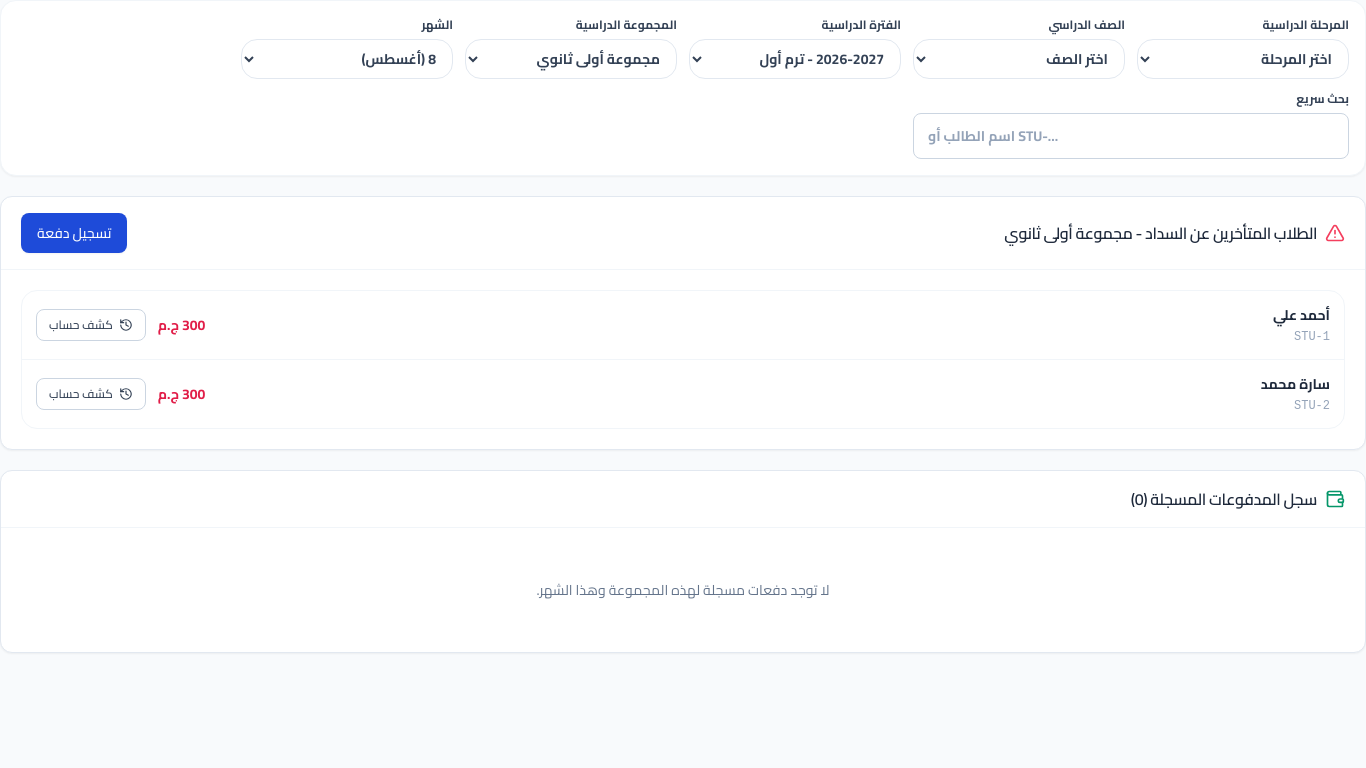
ManualPaymentTab unified filters › filters overdue students by name in real time
The width and height of the screenshot is (1366, 768).
Type "سارة" into the field labelled "بحث سريع".
click(1131, 136); type("سارة")  # box 913,113 -> 1349,159
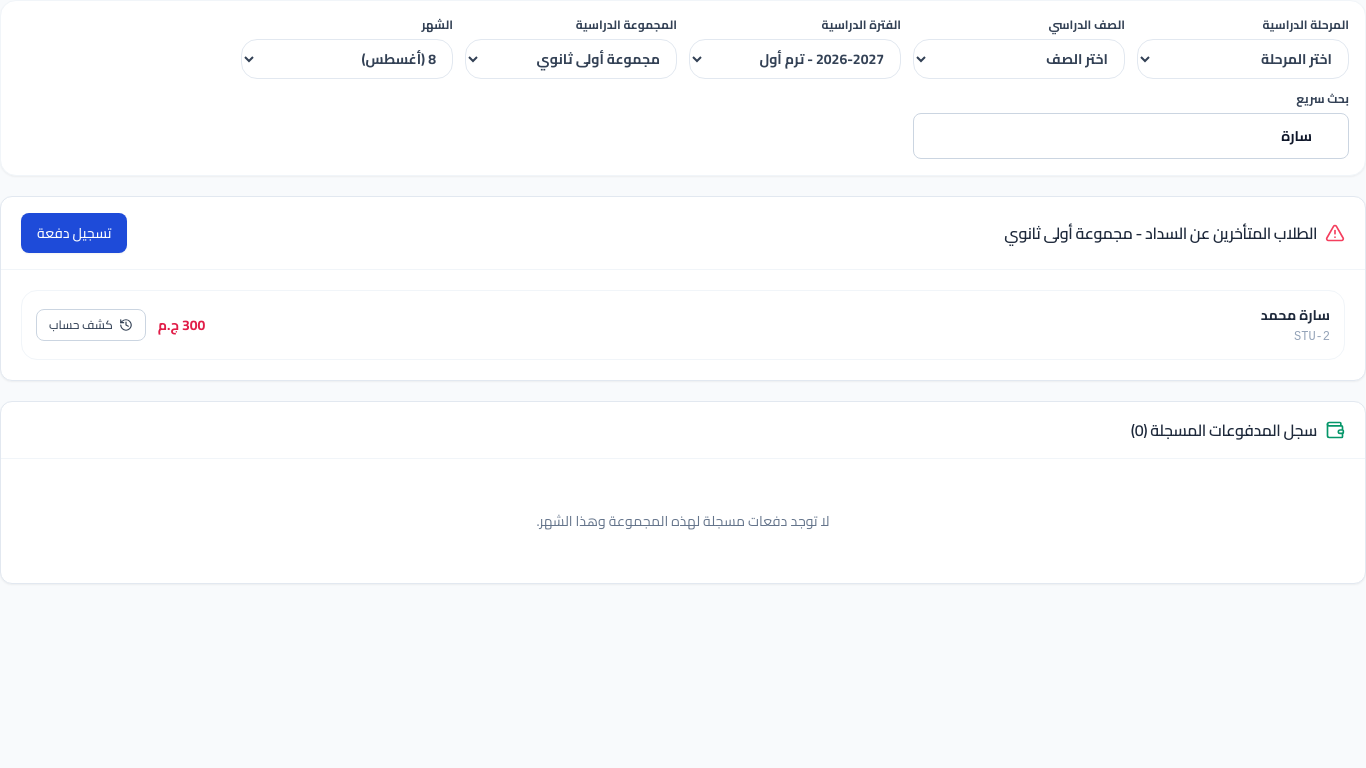
expect the text "سارة محمد" is shown: met, box 1261,305 -> 1330,325
expect the text "أحمد علي" is gone: met
